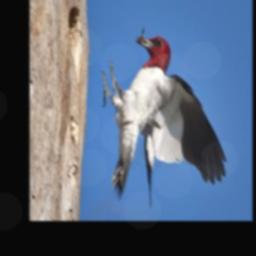Woodpecker: (102, 30, 227, 207)
